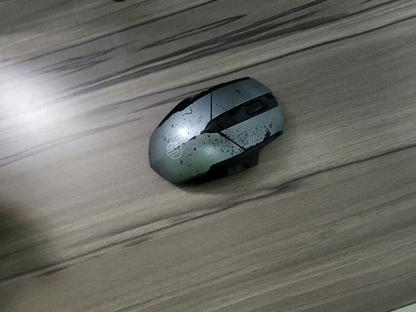mouse: (147, 75, 284, 186)
